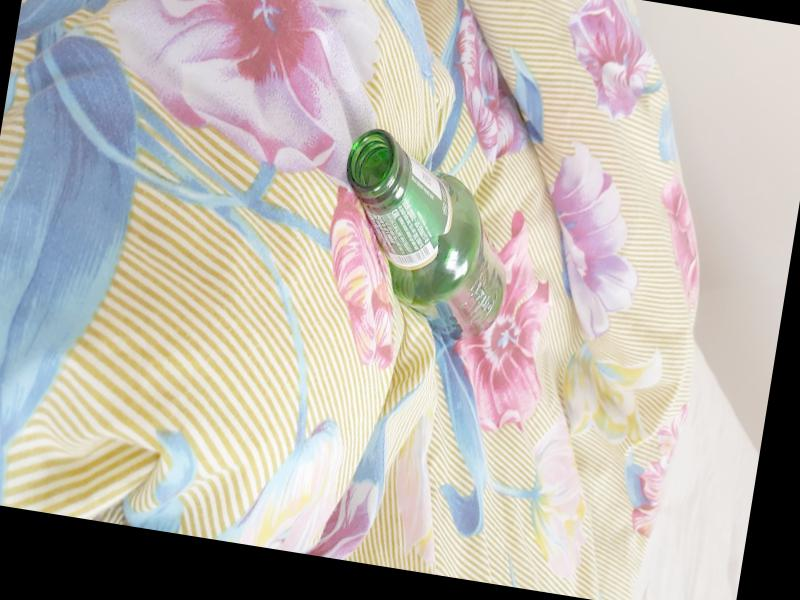Beer: (320, 122, 527, 345)
